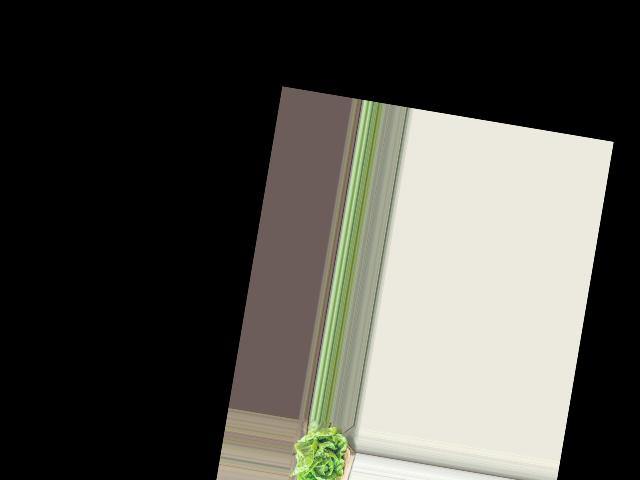lettuce: (289, 420, 353, 480)
